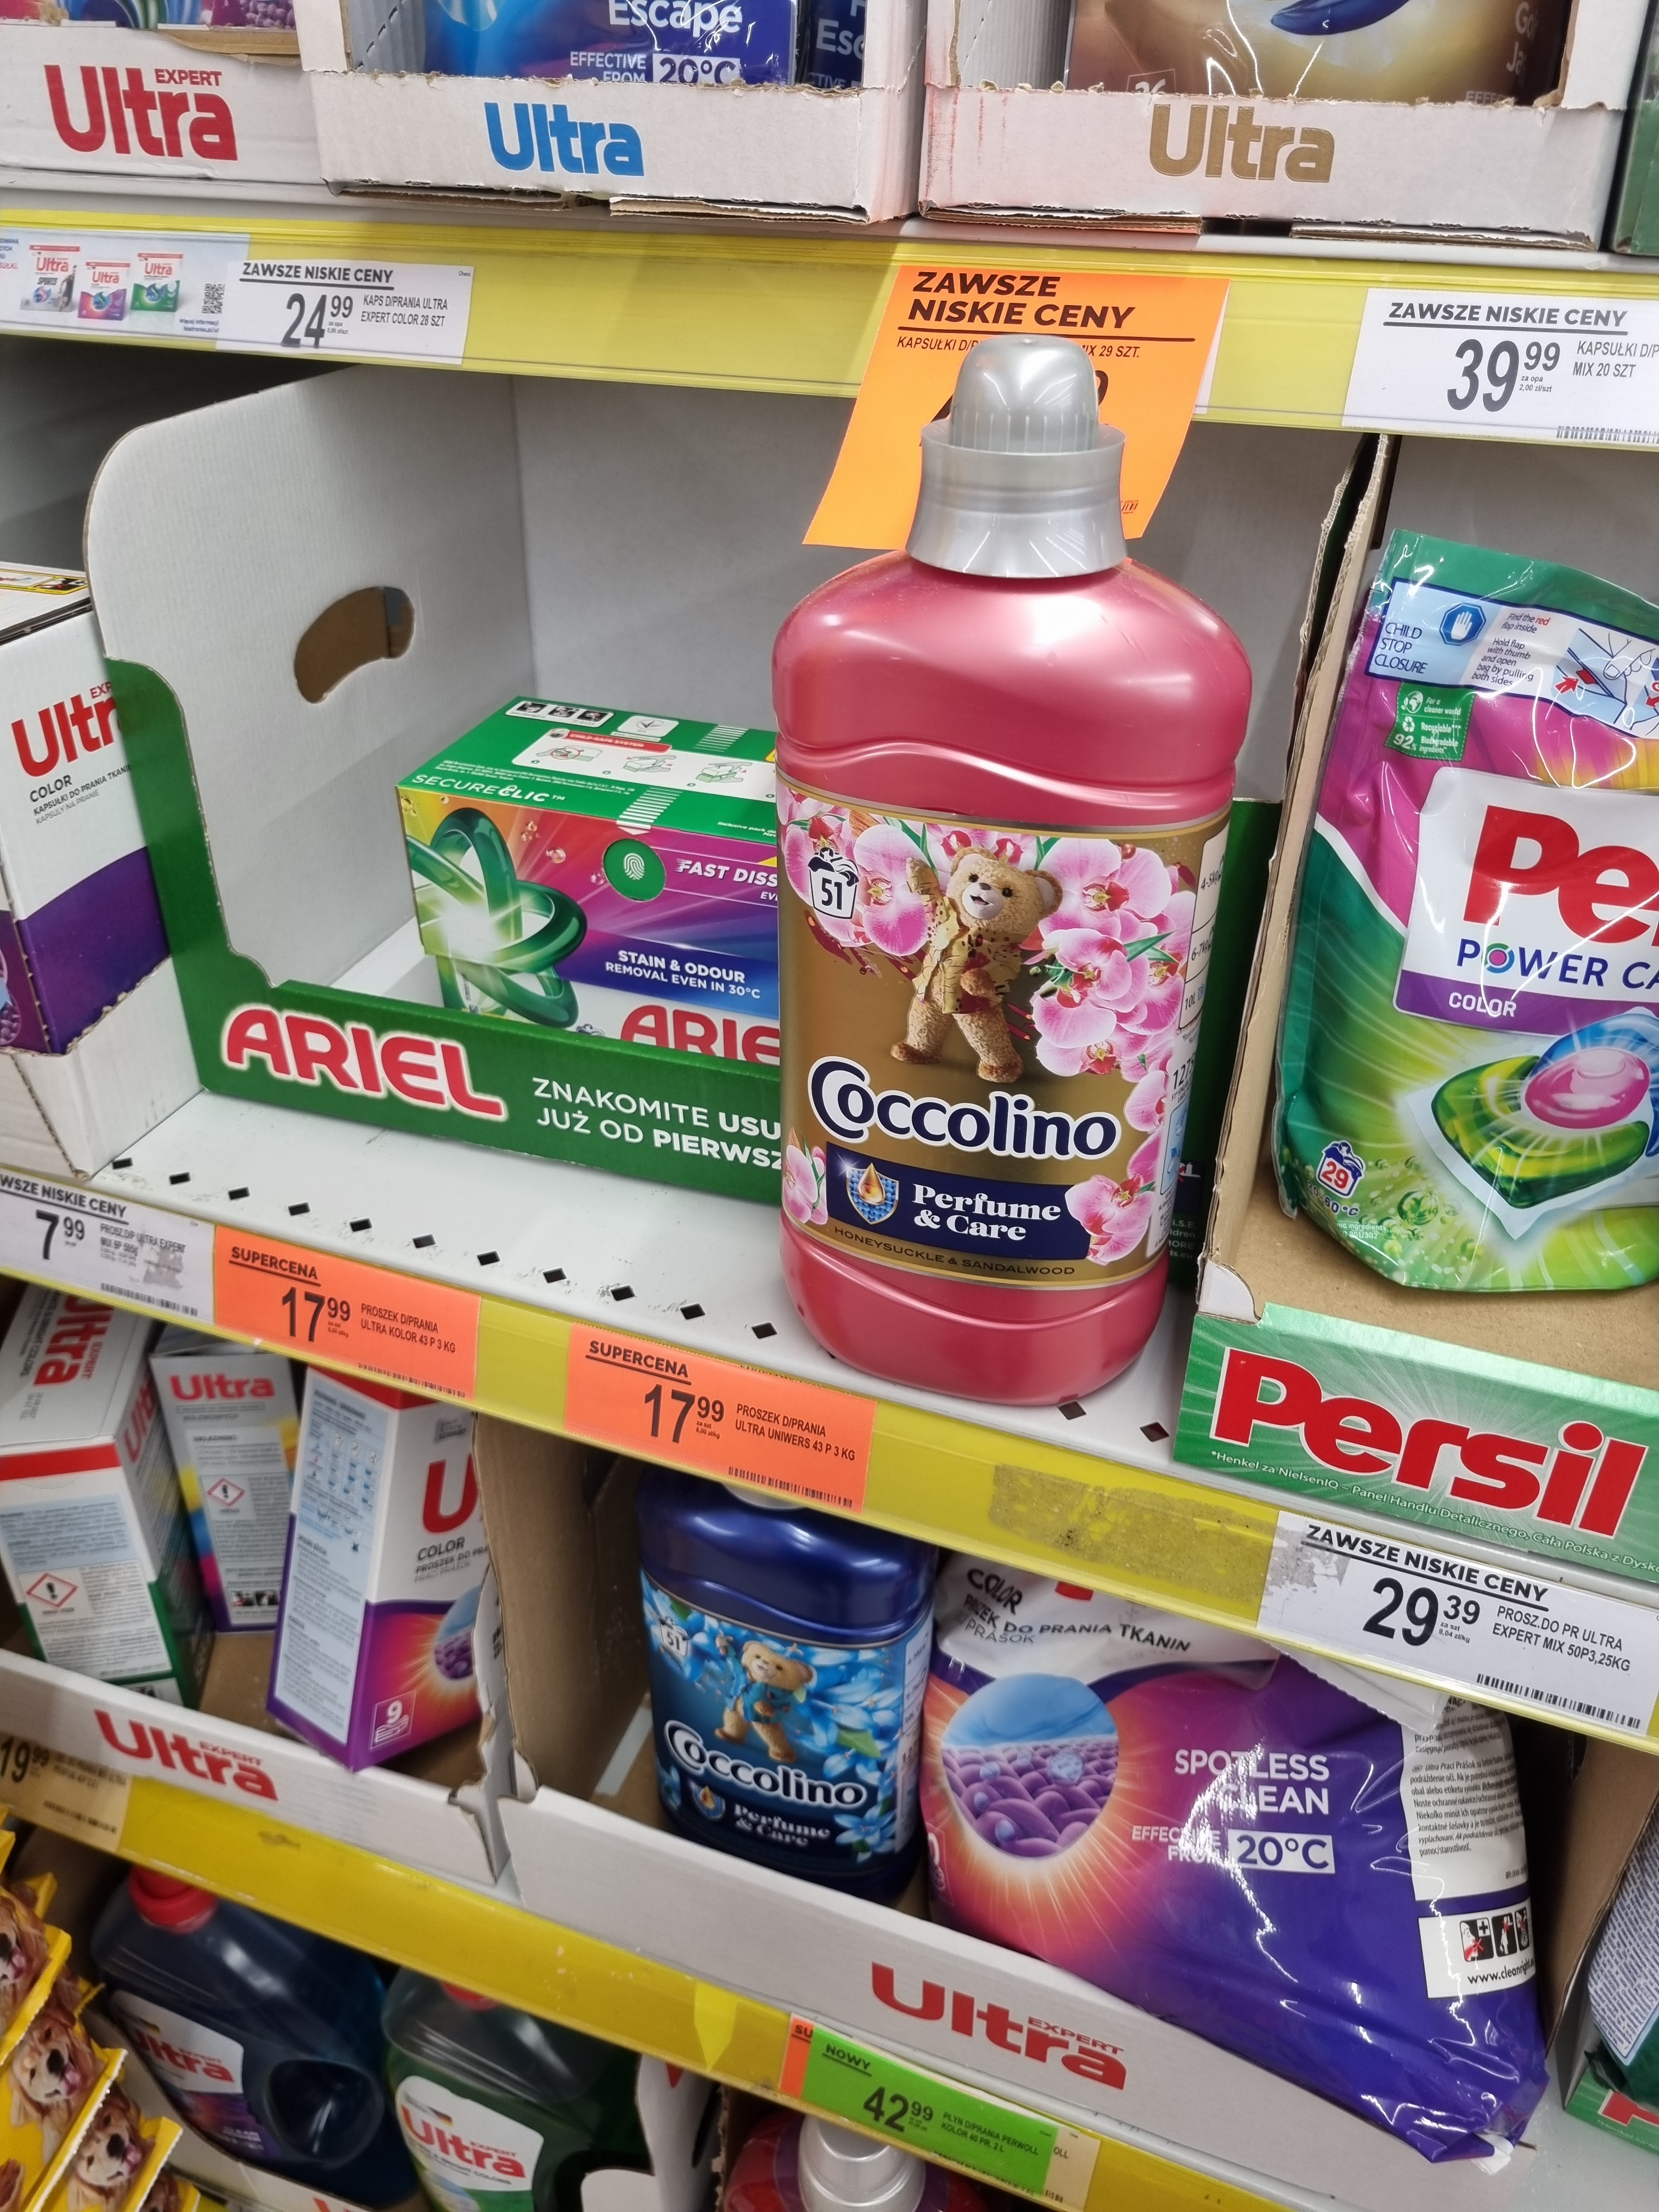cocolino: (775, 563, 1220, 1400)
